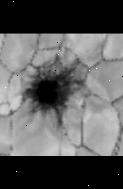good_void: (20, 54, 84, 130)
